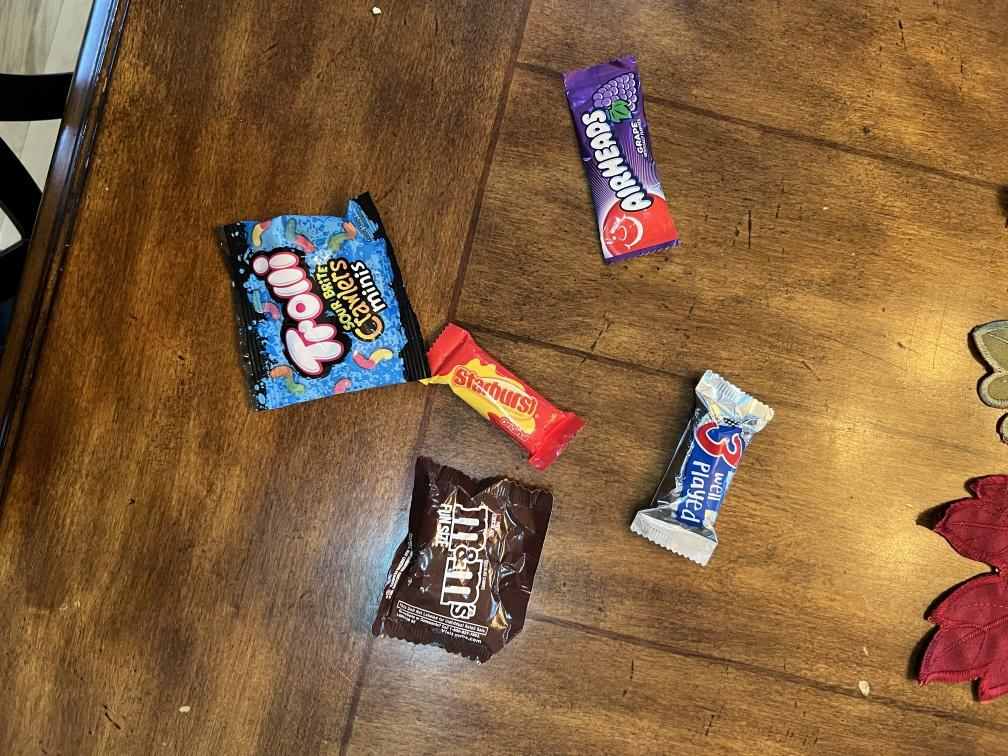MM_regular: (370, 455, 554, 665)
Trolli: (215, 193, 433, 411)
airheads: (570, 57, 686, 266)
musketeers: (626, 369, 773, 566)
starburst: (434, 327, 586, 465)
